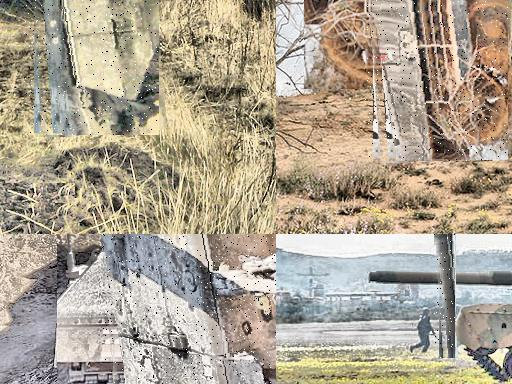tanks: (104, 235, 277, 384), (372, 1, 509, 162), (61, 1, 159, 136), (453, 304, 512, 380), (435, 235, 456, 359)
